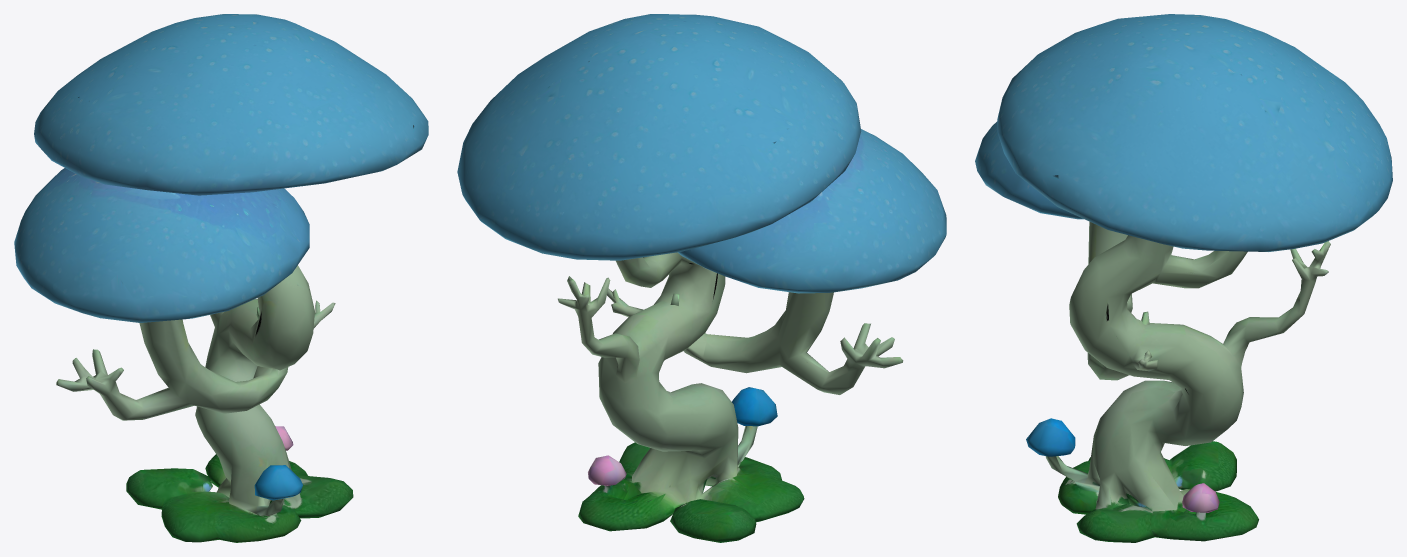
The model's file is albero-funghiDoppi-LOW.fbx.
The picture shows the model from 3 angles, left to right: view 1: azimuth 30°, elevation 25°; view 2: azimuth 150°, elevation 25°; view 3: azimuth 270°, elevation 25°; orthographic projection. The views are drawn at different scales.
Parts seen in each view (by area): view 1: fungoDoppio; view 2: fungoDoppio; view 3: fungoDoppio.
Part boxes in pixels (left/top/right/bottom): fungoDoppio: left=14, top=14, right=428, bottom=542; fungoDoppio: left=457, top=14, right=946, bottom=542; fungoDoppio: left=975, top=14, right=1392, bottom=542.
Bounding box in the file's own units: 2637 × 2951 × 2345.
Materials: 1 (1 with a texture image).
